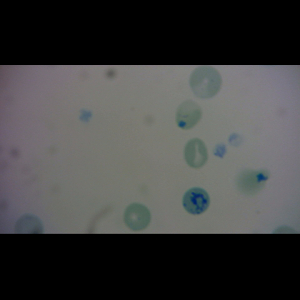aggregate reticulocyte: (182, 187, 211, 215)
erythrocyte: (175, 100, 204, 130), (123, 202, 151, 231), (184, 138, 210, 169)
punctate reticulocyte: (189, 66, 223, 98)
